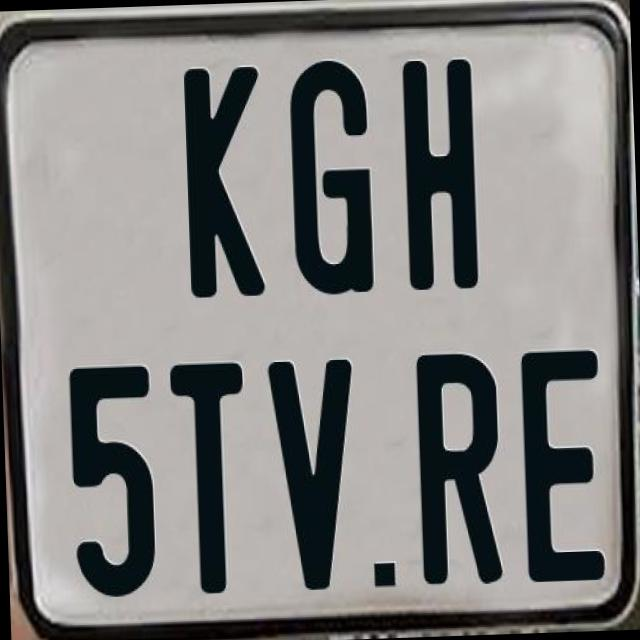5: (65, 364, 155, 602)
E: (516, 344, 609, 577)
G: (286, 59, 372, 302)
H: (398, 57, 478, 298)
K: (182, 61, 264, 292)
R: (416, 351, 503, 594)
T: (170, 360, 256, 602)
V: (267, 356, 367, 594)
